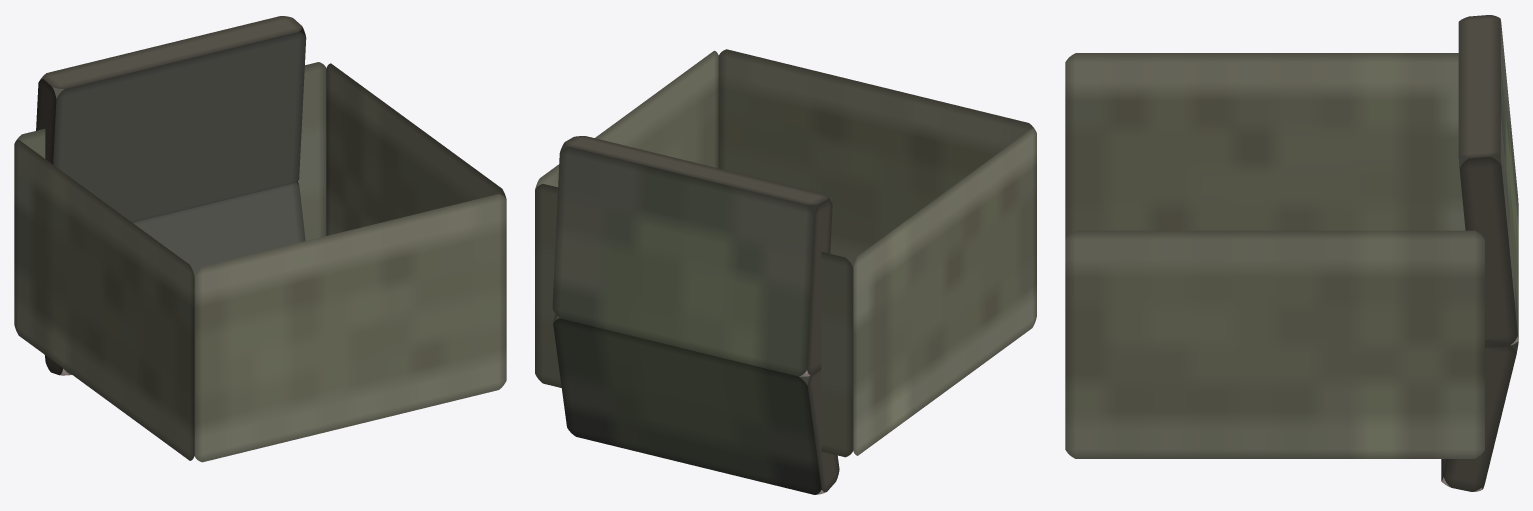
The model's file is osprey_kneepads_p_r.obj.
3 views of the same model, side by side, from view 1: azimuth 30°, elevation 25°; view 2: azimuth 150°, elevation 25°; view 3: azimuth 270°, elevation 25° (orthographic). The views are drawn at different scales.
Visible parts, largest first — view 1: mesh; view 2: mesh; view 3: mesh.
Boxes of the visible parts, <box> form: mesh: <box>14,16,506,462</box>; mesh: <box>535,49,1036,494</box>; mesh: <box>1065,15,1518,491</box>.
Size of the model in its own units: 0.3125 by 0.2777 by 0.3375.
